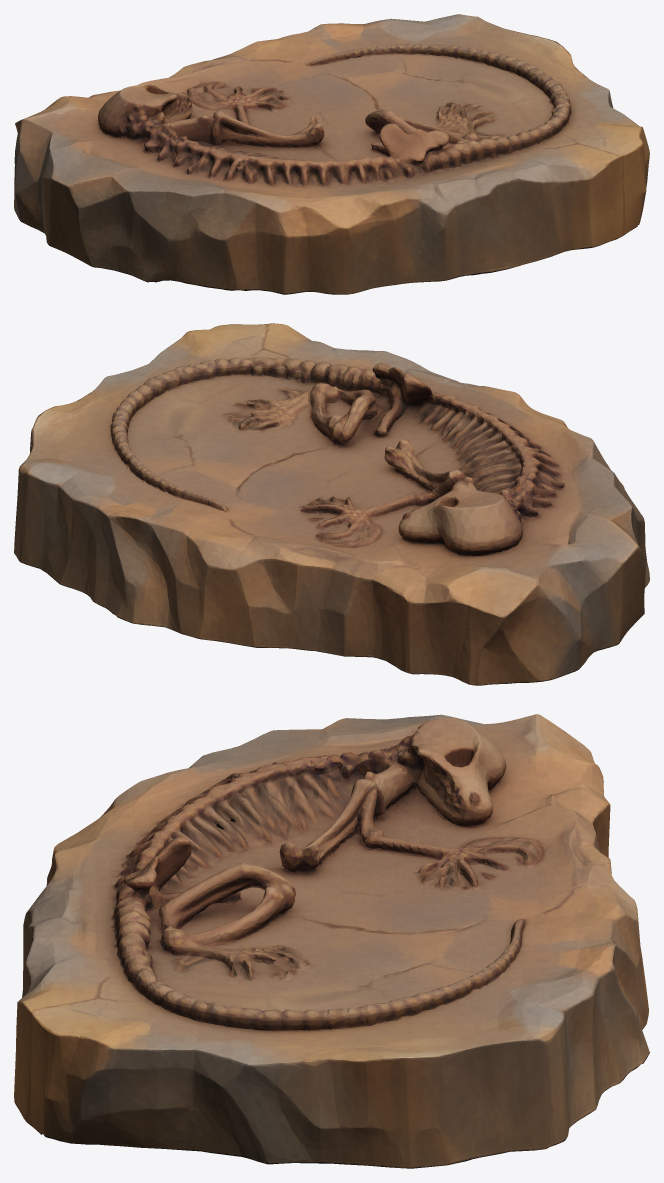
3 renders of one model, top to bottom at view 1: azimuth 30°, elevation 25°; view 2: azimuth 150°, elevation 25°; view 3: azimuth 270°, elevation 25°, orthographic. The views are drawn at different scales.
Visible parts, largest first — view 1: world; view 2: world; view 3: world.
Part boxes in pixels (x1,y1,x2,y2): world: (14,14,649,294); world: (14,323,649,685); world: (14,714,649,1168).
Bounding box in the file's own units: 0.4403 × 0.0971 × 0.337.
Materials: 1 (1 with a texture image).
